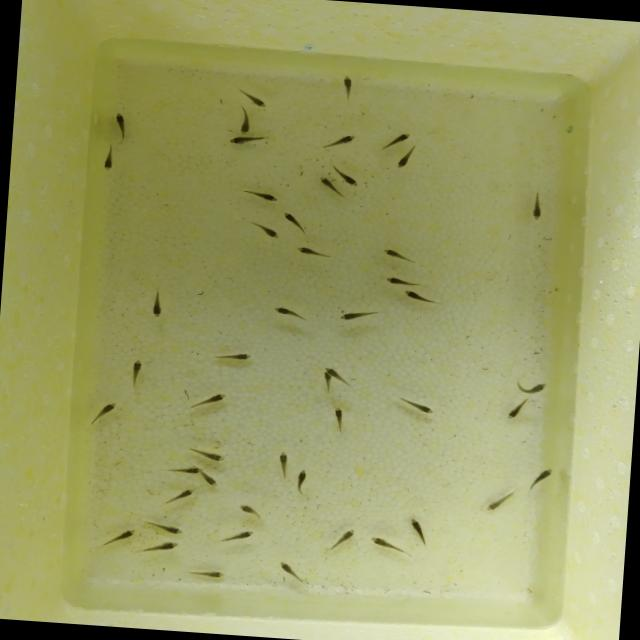fingerling: (176, 441, 230, 465), (184, 389, 231, 414), (286, 242, 338, 263), (369, 245, 422, 265), (122, 354, 149, 392), (104, 522, 142, 548), (163, 483, 202, 508), (320, 130, 364, 152), (143, 286, 169, 323), (212, 346, 260, 366), (400, 395, 439, 419), (403, 514, 432, 546), (479, 490, 514, 516), (228, 499, 270, 520), (326, 525, 356, 554), (88, 397, 118, 426), (144, 518, 186, 538), (333, 306, 375, 326), (278, 206, 308, 234), (394, 288, 440, 306), (288, 465, 311, 500), (502, 396, 530, 424), (362, 533, 401, 553), (526, 464, 552, 494), (374, 274, 422, 290), (221, 526, 263, 544), (268, 301, 304, 322), (140, 539, 187, 555), (322, 366, 356, 388), (381, 128, 412, 152), (110, 110, 133, 142), (271, 556, 301, 580), (515, 379, 551, 399), (328, 402, 349, 436), (222, 132, 266, 148), (528, 191, 548, 225), (273, 446, 291, 483), (254, 220, 282, 243), (98, 144, 118, 176), (243, 188, 282, 204), (333, 164, 361, 186), (164, 462, 207, 476), (338, 72, 358, 102), (192, 566, 229, 582), (242, 89, 270, 110), (234, 110, 256, 135), (393, 148, 415, 172), (314, 174, 334, 194), (202, 474, 222, 488)
